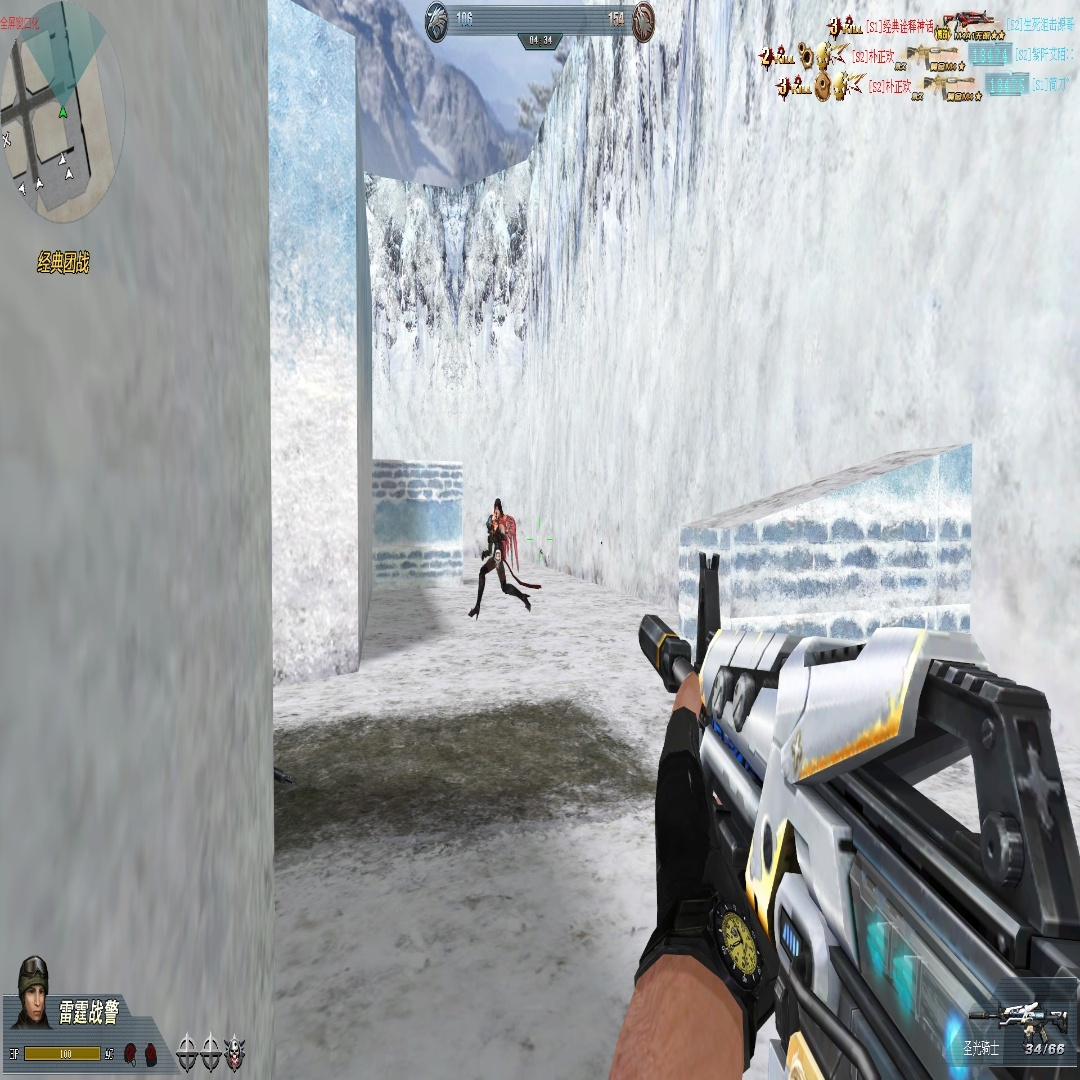head: (494, 497, 503, 519)
t: (482, 498, 507, 619)
